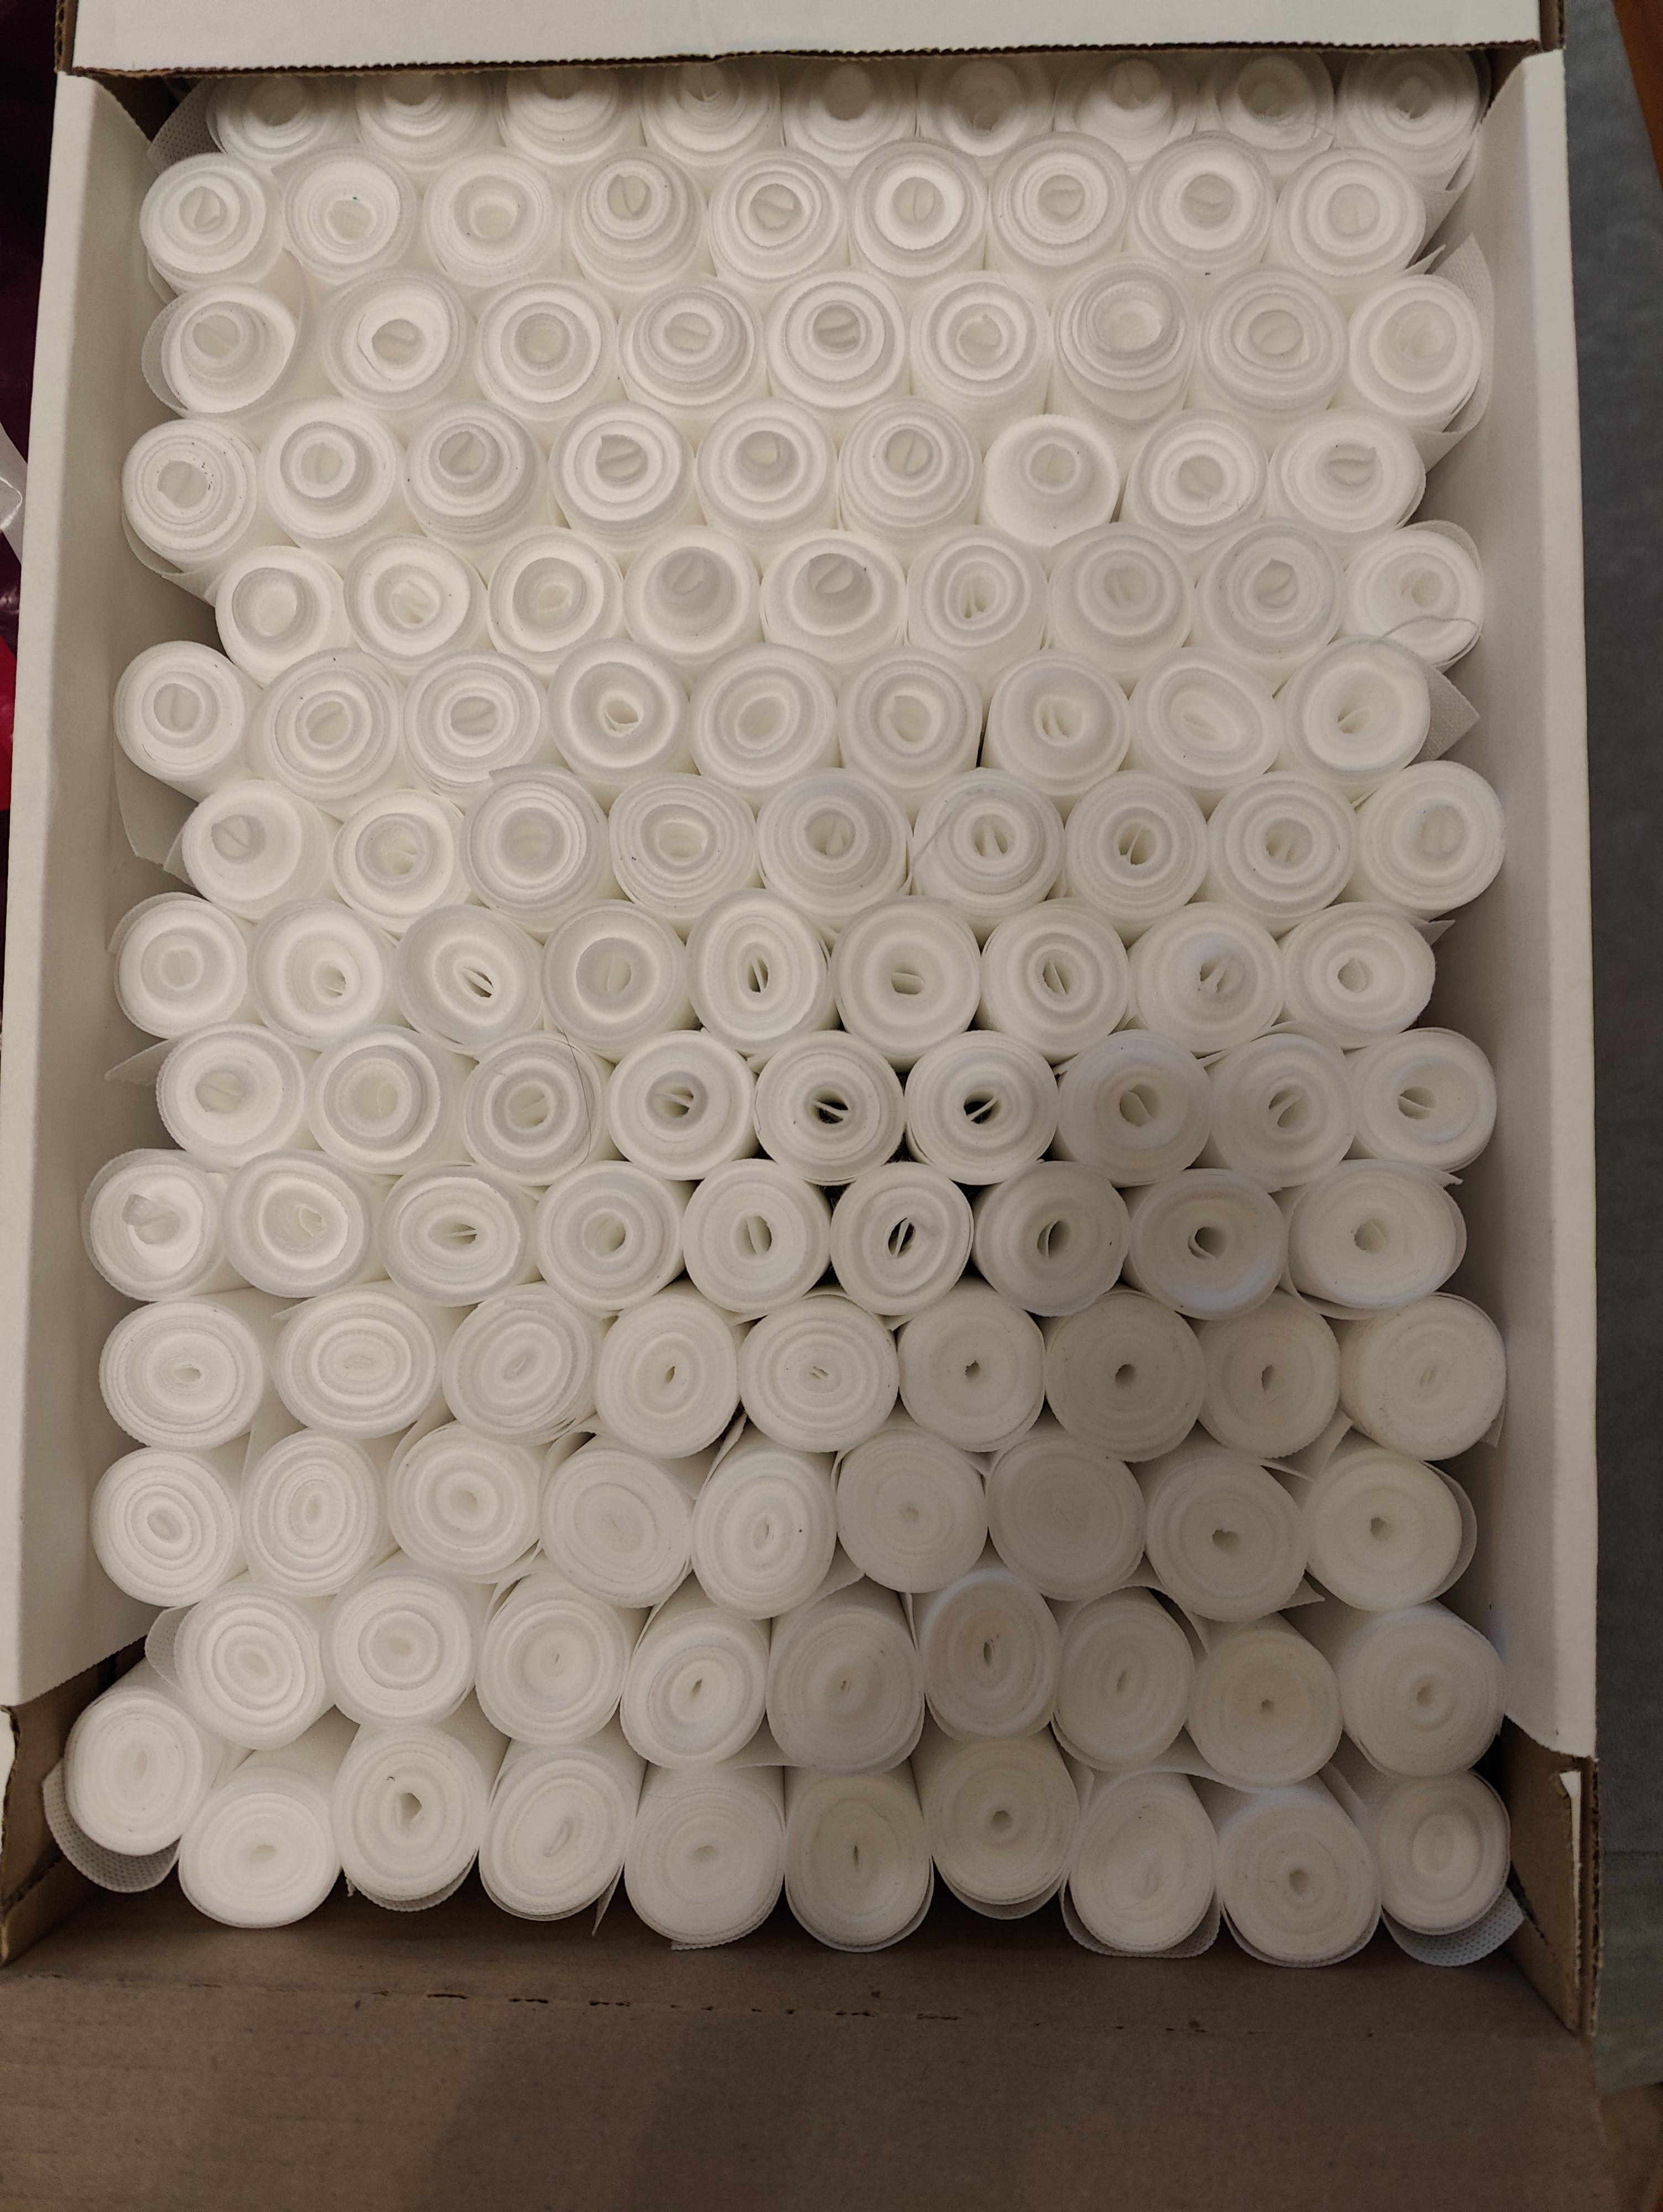roll: (1200, 1770, 1382, 1967), (327, 1719, 498, 1917), (1298, 1440, 1481, 1621), (58, 1667, 224, 1866), (477, 1735, 646, 1929), (620, 1754, 788, 1950), (763, 1580, 929, 1777), (1333, 1599, 1511, 1780), (175, 1747, 348, 1932), (1333, 1291, 1513, 1468), (1135, 1443, 1310, 1625), (774, 1758, 935, 1953), (615, 1581, 779, 1772), (470, 1567, 641, 1747), (1066, 1765, 1223, 1960), (914, 1728, 1074, 1918), (535, 1434, 707, 1611), (1286, 1160, 1474, 1321), (166, 1576, 335, 1754), (1177, 1613, 1347, 1791), (93, 1289, 271, 1457), (685, 1433, 840, 1621), (320, 1560, 489, 1733), (271, 1282, 445, 1450), (589, 1286, 755, 1462), (828, 1419, 989, 1600), (234, 1424, 397, 1602), (383, 1417, 552, 1586), (982, 1422, 1144, 1599), (1190, 266, 1350, 444), (1043, 1588, 1197, 1773), (1359, 1761, 1516, 1941), (910, 1567, 1064, 1751), (437, 1282, 603, 1450), (734, 1288, 894, 1461), (1190, 1279, 1347, 1454), (86, 1445, 250, 1609), (889, 1279, 1046, 1450), (1275, 634, 1439, 797), (1045, 262, 1195, 439), (1186, 517, 1343, 685), (1034, 1291, 1191, 1459), (1338, 273, 1490, 446), (601, 771, 763, 931), (1198, 1022, 1359, 1185), (529, 1157, 692, 1316), (217, 1144, 381, 1302), (115, 412, 266, 584), (901, 276, 1046, 453), (676, 1158, 837, 1317), (1352, 758, 1513, 917), (314, 267, 473, 428), (1266, 409, 1429, 566), (1123, 1171, 1291, 1323), (1338, 47, 1487, 218), (1272, 143, 1432, 301), (79, 1144, 239, 1302), (454, 765, 610, 928), (1127, 129, 1275, 299), (828, 896, 985, 1055), (978, 898, 1135, 1057), (968, 1155, 1127, 1312), (599, 1027, 762, 1181), (255, 397, 409, 559), (1200, 769, 1357, 926), (545, 397, 702, 554), (751, 771, 907, 930), (907, 767, 1062, 926), (1125, 896, 1286, 1050), (1120, 411, 1272, 573), (108, 638, 257, 804), (987, 129, 1134, 297), (391, 898, 549, 1054), (536, 898, 693, 1054), (685, 643, 842, 798), (248, 650, 404, 807), (825, 1162, 980, 1319), (685, 889, 838, 1048), (466, 280, 618, 440), (692, 395, 842, 557), (1275, 900, 1438, 1050), (543, 634, 699, 790), (1055, 769, 1209, 926), (148, 1019, 307, 1171), (1123, 646, 1282, 798), (105, 891, 257, 1050), (1045, 1033, 1204, 1185), (900, 1027, 1059, 1179), (372, 1158, 536, 1305), (454, 1029, 610, 1183), (831, 652, 985, 807), (564, 157, 716, 315), (748, 1029, 907, 1179), (830, 395, 980, 554), (613, 283, 763, 442), (1347, 1026, 1506, 1176), (1038, 526, 1186, 687), (842, 135, 990, 295), (398, 648, 550, 804), (398, 398, 550, 554), (299, 1026, 456, 1176), (980, 652, 1134, 804), (148, 274, 304, 425), (758, 267, 905, 426), (755, 528, 907, 680), (135, 149, 286, 301), (702, 149, 851, 304), (901, 528, 1048, 685), (480, 526, 629, 680), (339, 526, 489, 676), (204, 542, 355, 692), (243, 898, 397, 1045), (973, 407, 1121, 557), (615, 528, 765, 676), (1340, 521, 1485, 673), (171, 779, 325, 921), (417, 149, 564, 295), (274, 143, 421, 290), (325, 790, 470, 933), (1209, 47, 1340, 182), (636, 59, 772, 187), (349, 70, 496, 187), (493, 65, 636, 180), (1064, 49, 1191, 175), (783, 56, 912, 176), (915, 51, 1041, 171), (210, 72, 355, 173)
